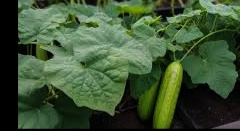cucumber: (151, 61, 184, 128)
cucumber_plant: (20, 5, 131, 112)
